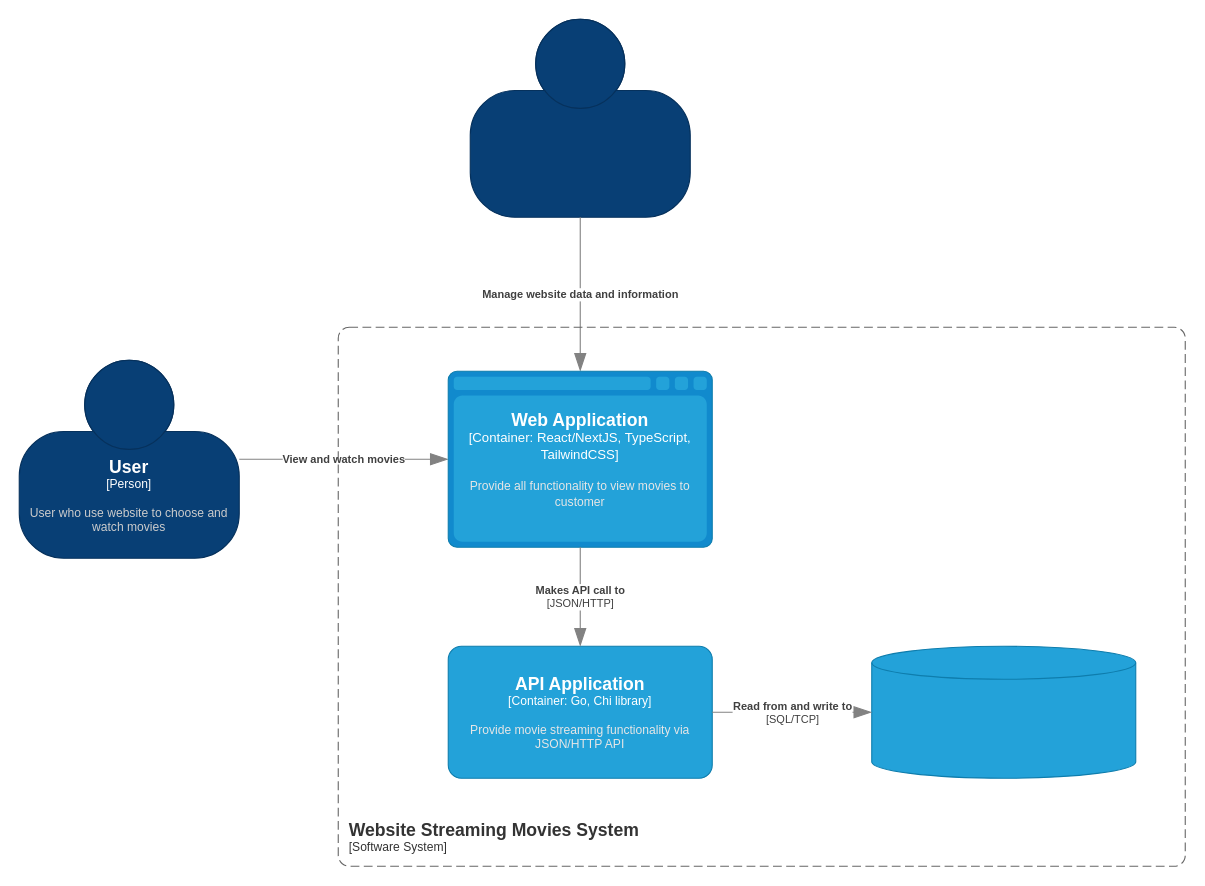
Some shapes in this 1205 by 886 pixel diagram are drawn without their labels. The shapes that lost their labels are listed below. From the top down, each one's centre as x and y in pixels, then its label:
the point at 579,117: Admin [Person] Admin who can manage website streaming server
the point at 1003,711: Database [Container: PostgreSQL database] Hold movies and user information.
